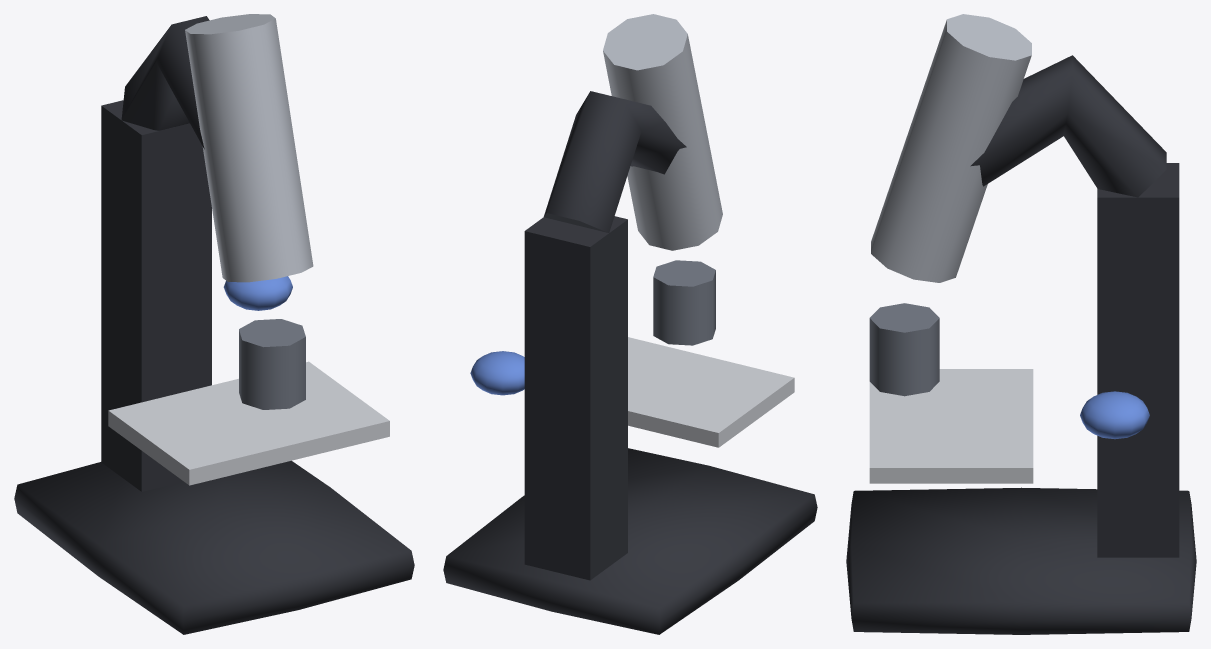
The model's file is microscope.glb.
3 views of the same model, side by side, from view 1: azimuth 30°, elevation 25°; view 2: azimuth 150°, elevation 25°; view 3: azimuth 270°, elevation 25° (orthographic). The views are drawn at different scales.
Visible parts, largest first — view 1: root; view 2: root; view 3: root.
Boxes of the visible parts, x1,y1,x2,y2 form: root: [14, 14, 414, 634]; root: [443, 14, 817, 634]; root: [846, 14, 1196, 634].
Size of the model in its own units: 0.24 by 0.5263 by 0.3.
